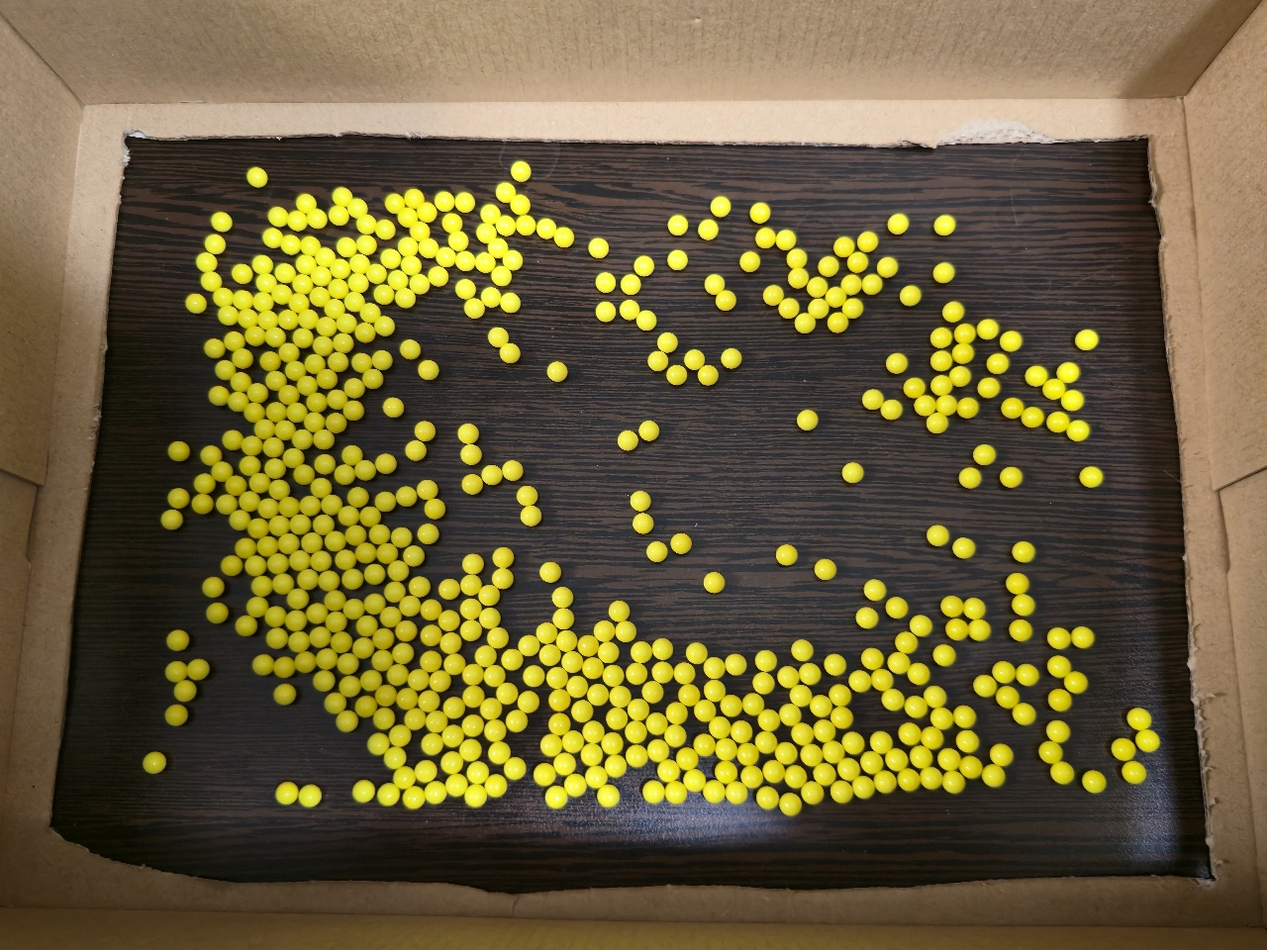yellow_bead: (703, 224, 714, 235), (358, 788, 369, 798), (594, 242, 604, 253), (673, 220, 683, 231), (216, 217, 227, 227), (716, 201, 726, 212), (526, 511, 536, 521), (623, 435, 633, 445), (506, 298, 516, 308), (415, 279, 425, 289), (497, 271, 507, 281), (673, 255, 683, 265), (516, 165, 526, 175), (647, 788, 656, 799), (689, 354, 698, 364), (641, 316, 651, 325), (601, 307, 611, 316), (625, 305, 634, 315), (469, 304, 479, 313), (460, 284, 470, 293), (626, 279, 635, 289), (601, 277, 611, 286), (485, 209, 495, 218), (353, 203, 362, 213), (470, 795, 481, 803), (385, 253, 396, 261), (341, 242, 350, 251), (461, 256, 469, 266), (493, 243, 503, 251), (541, 223, 551, 231), (252, 172, 262, 180), (602, 792, 609, 803), (639, 260, 646, 271), (481, 229, 492, 236), (569, 783, 577, 792), (420, 768, 428, 777), (847, 468, 855, 477), (403, 242, 412, 250), (651, 546, 658, 556), (635, 496, 642, 506), (643, 426, 653, 433), (802, 416, 809, 426), (800, 319, 810, 326), (400, 294, 410, 301), (406, 261, 416, 268), (453, 237, 463, 244), (653, 356, 661, 364), (662, 337, 670, 345), (710, 279, 718, 287), (393, 275, 401, 283), (322, 252, 330, 260), (501, 187, 509, 195), (308, 793, 315, 802), (472, 767, 479, 776), (389, 756, 398, 763), (373, 739, 380, 748), (522, 491, 529, 500), (552, 367, 559, 376), (493, 332, 500, 341), (349, 298, 358, 305), (486, 292, 495, 299), (434, 271, 443, 278), (280, 268, 289, 275), (480, 257, 489, 264), (201, 257, 210, 264), (501, 220, 508, 229), (544, 567, 550, 577), (727, 353, 733, 363), (509, 764, 516, 772), (869, 585, 876, 593), (891, 358, 898, 366), (814, 304, 822, 311), (355, 259, 363, 266), (210, 239, 217, 247), (267, 233, 275, 240), (938, 267, 949, 272), (493, 749, 499, 758), (782, 672, 788, 681), (621, 627, 627, 636), (497, 574, 503, 583), (487, 470, 493, 479), (505, 348, 511, 357), (731, 659, 736, 669), (524, 640, 529, 650), (353, 279, 363, 284), (894, 218, 904, 223), (314, 214, 319, 224), (451, 783, 458, 790), (558, 760, 565, 767), (867, 395, 874, 402), (793, 273, 800, 280), (731, 791, 737, 799), (760, 655, 766, 663), (635, 647, 641, 655), (492, 632, 498, 640), (467, 559, 473, 567), (508, 466, 514, 474), (671, 370, 679, 376), (784, 303, 792, 309), (424, 243, 432, 249), (362, 240, 368, 248), (362, 220, 370, 226), (545, 741, 550, 750), (529, 670, 534, 679), (411, 445, 416, 454), (206, 277, 215, 282), (939, 220, 948, 225), (708, 791, 715, 797), (445, 758, 452, 764), (652, 746, 658, 753), (691, 648, 697, 655), (599, 626, 605, 633), (915, 620, 921, 627), (557, 614, 564, 620), (466, 449, 472, 456), (463, 429, 469, 436), (424, 365, 431, 371), (257, 260, 264, 266), (334, 211, 341, 217), (608, 671, 613, 679), (567, 658, 572, 666), (465, 604, 470, 612), (366, 308, 374, 313), (905, 291, 913, 296), (261, 279, 269, 284), (792, 253, 800, 258), (439, 196, 447, 201), (835, 788, 841, 794), (427, 742, 433, 748), (854, 676, 860, 682), (829, 660, 835, 666), (603, 648, 609, 654), (614, 606, 620, 612), (637, 519, 643, 525), (886, 405, 892, 411), (703, 371, 709, 377), (380, 322, 389, 326), (768, 290, 774, 296), (318, 272, 324, 278), (591, 773, 596, 780), (464, 746, 469, 753), (501, 690, 506, 697), (572, 681, 577, 688), (758, 679, 763, 686), (551, 672, 556, 679), (805, 668, 810, 675), (480, 650, 485, 657), (797, 645, 802, 652), (658, 644, 663, 651), (861, 613, 868, 618), (958, 543, 963, 550), (388, 403, 395, 408), (191, 299, 196, 306), (868, 279, 873, 286), (373, 269, 380, 274), (559, 232, 566, 237), (517, 199, 524, 204), (522, 222, 530, 226), (338, 192, 346, 196), (550, 792, 553, 802), (586, 751, 592, 756), (847, 737, 853, 742), (670, 732, 675, 738), (630, 728, 635, 734), (511, 716, 517, 721), (485, 706, 490, 712), (523, 699, 528, 705), (507, 655, 512, 661), (541, 628, 546, 634), (465, 626, 471, 631), (466, 580, 471, 586), (709, 578, 714, 584), (932, 530, 938, 535), (336, 264, 341, 270), (273, 212, 279, 217), (688, 779, 695, 783), (633, 705, 637, 712), (484, 615, 491, 619), (409, 551, 416, 555), (377, 355, 384, 359), (405, 344, 412, 348), (824, 261, 831, 265), (782, 235, 791, 238), (538, 773, 543, 778), (612, 762, 617, 767), (588, 729, 593, 734), (490, 727, 495, 732), (592, 691, 597, 696), (489, 672, 494, 677), (544, 651, 549, 656), (343, 319, 348, 324), (831, 292, 836, 297), (813, 282, 818, 287), (847, 280, 852, 285), (460, 197, 465, 202), (761, 796, 767, 800), (662, 769, 668, 773), (721, 748, 727, 752), (577, 706, 581, 712), (711, 686, 714, 694), (467, 480, 473, 484), (721, 296, 727, 300), (884, 262, 890, 266), (301, 260, 307, 264), (745, 256, 751, 260), (302, 199, 308, 203), (423, 530, 430, 533), (1083, 334, 1090, 337), (671, 793, 676, 797), (786, 709, 790, 714), (616, 694, 620, 699), (679, 670, 684, 674), (445, 639, 450, 643), (561, 637, 566, 641), (444, 584, 449, 588), (395, 566, 400, 570), (498, 553, 502, 558), (423, 485, 428, 489), (985, 324, 990, 328), (948, 307, 953, 311), (441, 257, 445, 262), (390, 198, 394, 203), (795, 693, 801, 696), (397, 532, 403, 535), (402, 492, 408, 495), (370, 374, 376, 377), (319, 341, 325, 344), (224, 311, 230, 314), (379, 290, 385, 293), (761, 233, 767, 236), (756, 208, 762, 211), (785, 804, 789, 808), (782, 550, 786, 554), (167, 515, 171, 519), (332, 304, 336, 308), (737, 729, 740, 734), (468, 671, 471, 676), (894, 660, 899, 663), (406, 602, 411, 605), (560, 592, 563, 597), (381, 497, 386, 500), (964, 474, 969, 477), (361, 465, 366, 468), (381, 459, 386, 462), (221, 365, 226, 368), (340, 338, 345, 341), (336, 284, 341, 287), (239, 269, 244, 272), (839, 241, 844, 244), (287, 239, 292, 242), (418, 228, 423, 231), (295, 216, 298, 221), (349, 384, 356, 386), (859, 786, 863, 789), (607, 741, 611, 744), (821, 728, 824, 732), (700, 708, 703, 712), (817, 706, 821, 709), (929, 694, 935, 696), (632, 669, 635, 673), (359, 643, 363, 646), (392, 587, 395, 591), (417, 582, 420, 586), (300, 434, 303, 438), (420, 427, 426, 429), (335, 357, 339, 360), (325, 322, 328, 326), (305, 316, 309, 319), (850, 304, 853, 308), (260, 298, 264, 301), (241, 296, 244, 300), (412, 194, 415, 198), (760, 741, 765, 743), (467, 724, 472, 726), (432, 718, 437, 720), (763, 717, 768, 719), (611, 715, 616, 717), (931, 421, 936, 423), (357, 358, 362, 360), (280, 290, 285, 292), (863, 237, 868, 239), (385, 794, 388, 797), (769, 769, 772, 772), (450, 706, 453, 709), (647, 691, 650, 694), (416, 677, 419, 680), (400, 649, 403, 652), (295, 594, 298, 597), (676, 539, 679, 542), (342, 470, 345, 473), (301, 280, 304, 283), (881, 782, 885, 784), (798, 732, 802, 734), (651, 722, 655, 724), (343, 720, 347, 722), (936, 356, 940, 358), (299, 333, 303, 335), (810, 791, 812, 794), (782, 751, 785, 753), (447, 733, 450, 735), (322, 678, 325, 680), (451, 661, 453, 664), (258, 661, 261, 663), (559, 601, 562, 603), (372, 599, 374, 602), (322, 520, 325, 522), (238, 517, 241, 519), (346, 512, 349, 514), (291, 453, 294, 455), (312, 418, 315, 420), (273, 376, 275, 379), (286, 348, 289, 350), (935, 334, 938, 336), (362, 328, 365, 330), (398, 733, 400, 735), (395, 671, 397, 673), (711, 662, 713, 664), (938, 654, 942, 655), (429, 632, 431, 634), (295, 617, 297, 619), (389, 614, 391, 616), (352, 606, 354, 608), (281, 580, 283, 582), (307, 576, 309, 578), (372, 570, 374, 572), (298, 521, 302, 522), (330, 501, 332, 503), (319, 484, 321, 486), (323, 460, 325, 462), (979, 451, 981, 453), (349, 450, 351, 452), (923, 403, 925, 405), (335, 395, 337, 397), (215, 392, 217, 394), (317, 292, 319, 294), (309, 244, 310, 248), (426, 208, 428, 210), (491, 787, 494, 788), (843, 768, 846, 769), (807, 753, 810, 754), (749, 703, 752, 704), (424, 700, 427, 701), (317, 634, 320, 635), (365, 621, 366, 624), (267, 504, 268, 507), (255, 389, 258, 390), (448, 219, 451, 220), (431, 794, 432, 796), (285, 794, 287, 795), (634, 756, 636, 757), (830, 751, 832, 752), (875, 741, 877, 742), (982, 685, 984, 686), (438, 679, 439, 681), (659, 668, 661, 669), (346, 661, 348, 662), (562, 598, 563, 600), (351, 577, 353, 578), (299, 557, 301, 558), (309, 502, 310, 504), (274, 464, 275, 466), (208, 451, 209, 453), (250, 441, 251, 443), (237, 398, 238, 400), (306, 382, 307, 384), (314, 359, 315, 361), (274, 334, 276, 335), (514, 264, 516, 265), (508, 260, 509, 262), (441, 254, 442, 256), (431, 792, 432, 793), (793, 776, 794, 777), (822, 773, 823, 774), (867, 762, 868, 763), (878, 741, 879, 742), (715, 727, 716, 728), (334, 701, 335, 702), (381, 658, 382, 659), (327, 656, 328, 657), (446, 618, 447, 619), (316, 611, 317, 612), (328, 580, 329, 581), (322, 557, 323, 558), (334, 538, 335, 539), (378, 531, 379, 532), (432, 506, 433, 507), (230, 435, 231, 436), (296, 409, 297, 410), (945, 403, 946, 404), (938, 383, 939, 384), (937, 381, 938, 382), (958, 374, 959, 375), (294, 366, 295, 367), (231, 337, 232, 338), (287, 317, 288, 318), (298, 300, 299, 301), (508, 258, 509, 259), (466, 197, 467, 198)
